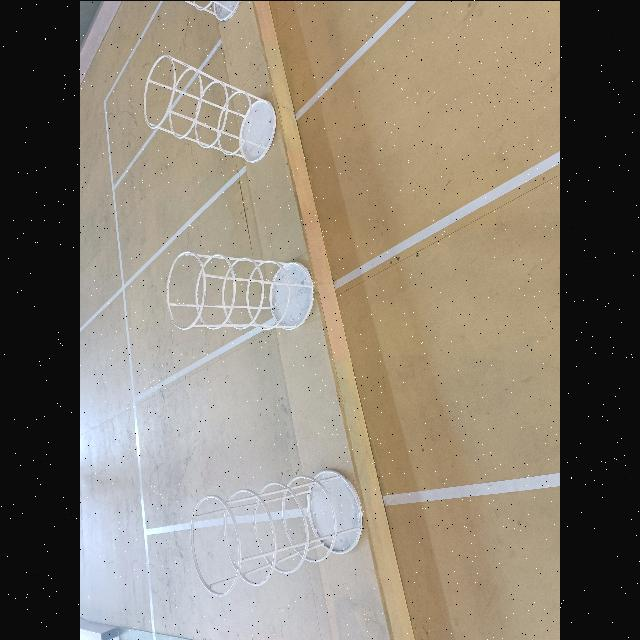S: (189, 464, 368, 604), (139, 51, 282, 166), (160, 252, 322, 337), (175, 0, 243, 27)
